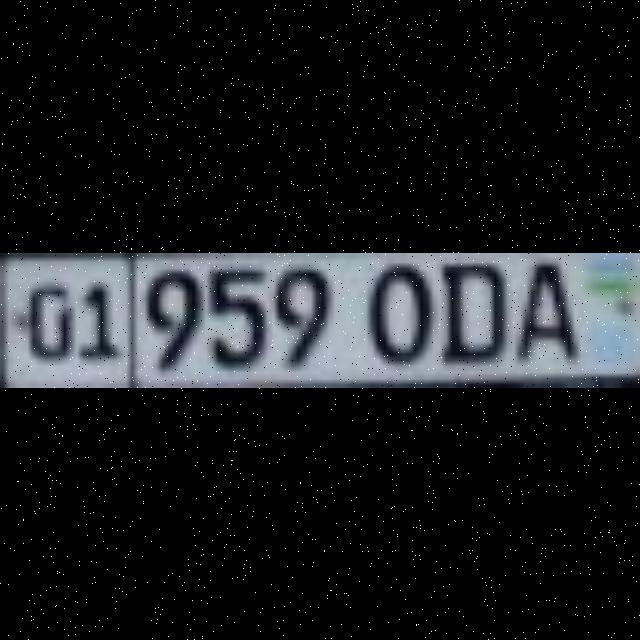0: (18, 277, 62, 351)
1: (68, 277, 110, 351)
5: (197, 258, 259, 362)
9: (135, 258, 197, 362), (270, 258, 326, 362)
A: (504, 252, 566, 356)
D: (431, 252, 499, 356)
O: (364, 258, 418, 350)
